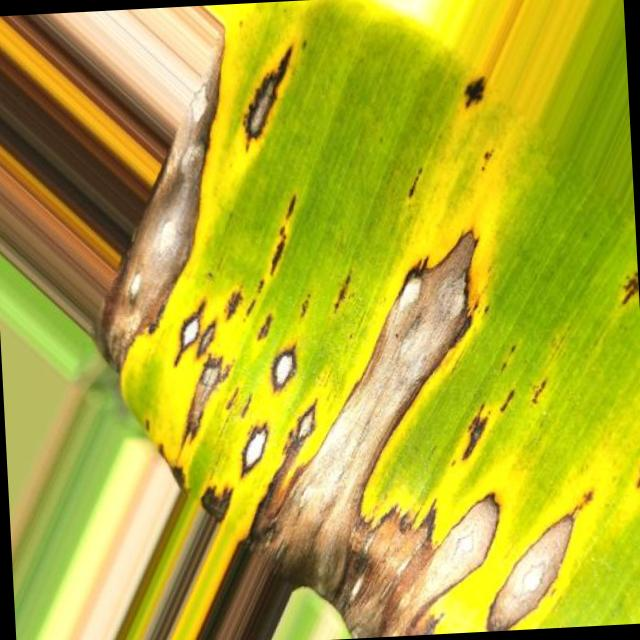Banana_Yellow_Sigatoka: (169, 170, 640, 640), (219, 19, 333, 154)
